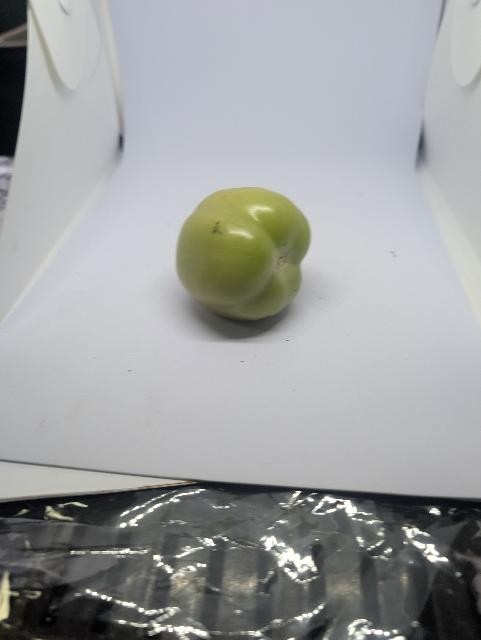green: (175, 187, 315, 324)
